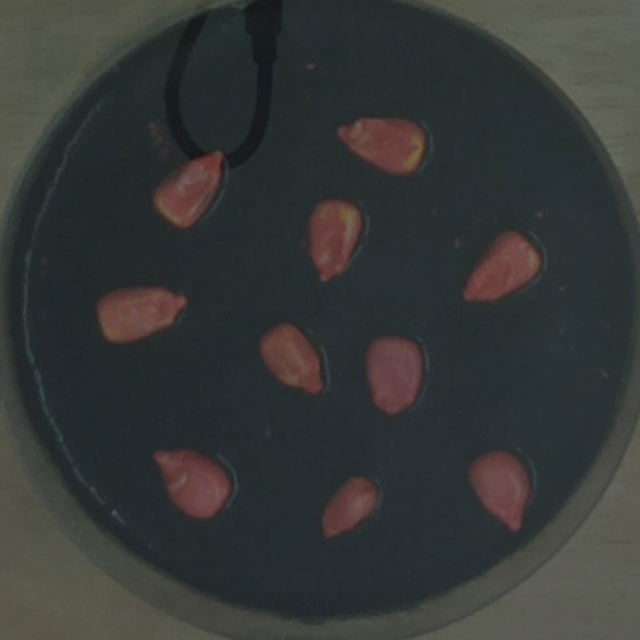Zea mays: (142, 141, 234, 238), (453, 220, 550, 312), (328, 107, 437, 184), (145, 437, 239, 526), (87, 277, 195, 349), (460, 442, 535, 540), (298, 189, 370, 289), (252, 313, 332, 400), (360, 325, 429, 420), (312, 468, 384, 546)
